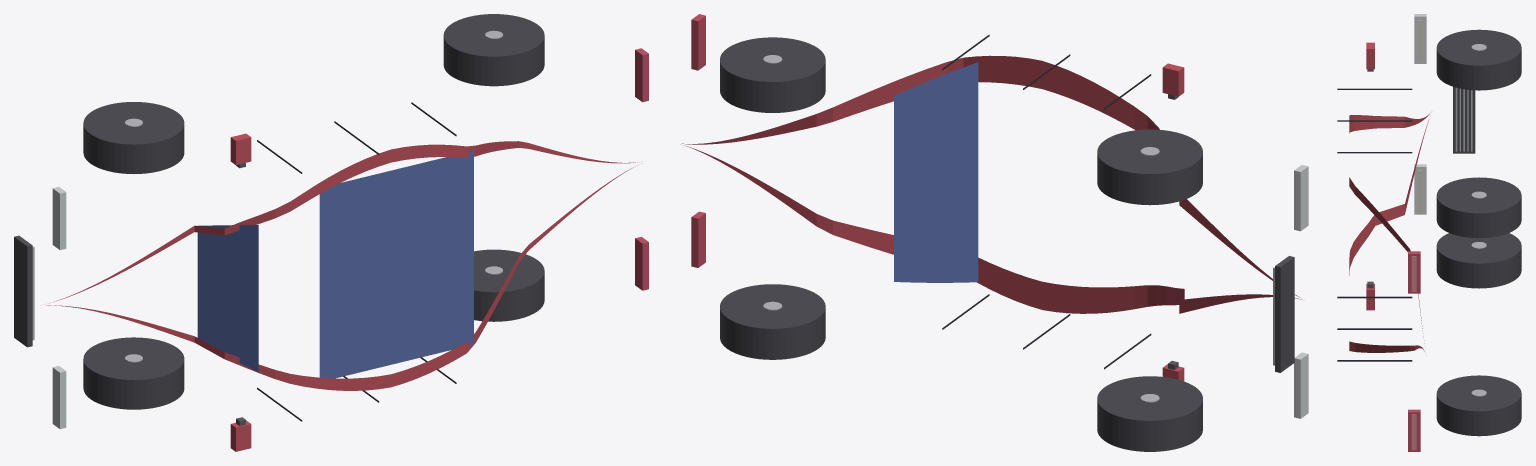
The picture shows the model from 3 angles, left to right: view 1: azimuth 30°, elevation 25°; view 2: azimuth 150°, elevation 25°; view 3: azimuth 270°, elevation 25°; orthographic projection. The views are drawn at different scales.
Visible parts, largest first — view 1: world; view 2: world; view 3: world.
Boxes of the visible parts, <box> form: world: <box>14,14,648,451</box>; world: <box>682,14,1308,451</box>; world: <box>1337,14,1521,451</box>.
Bounding box in the file's own units: 4.7 × 2.31 × 1.48.
